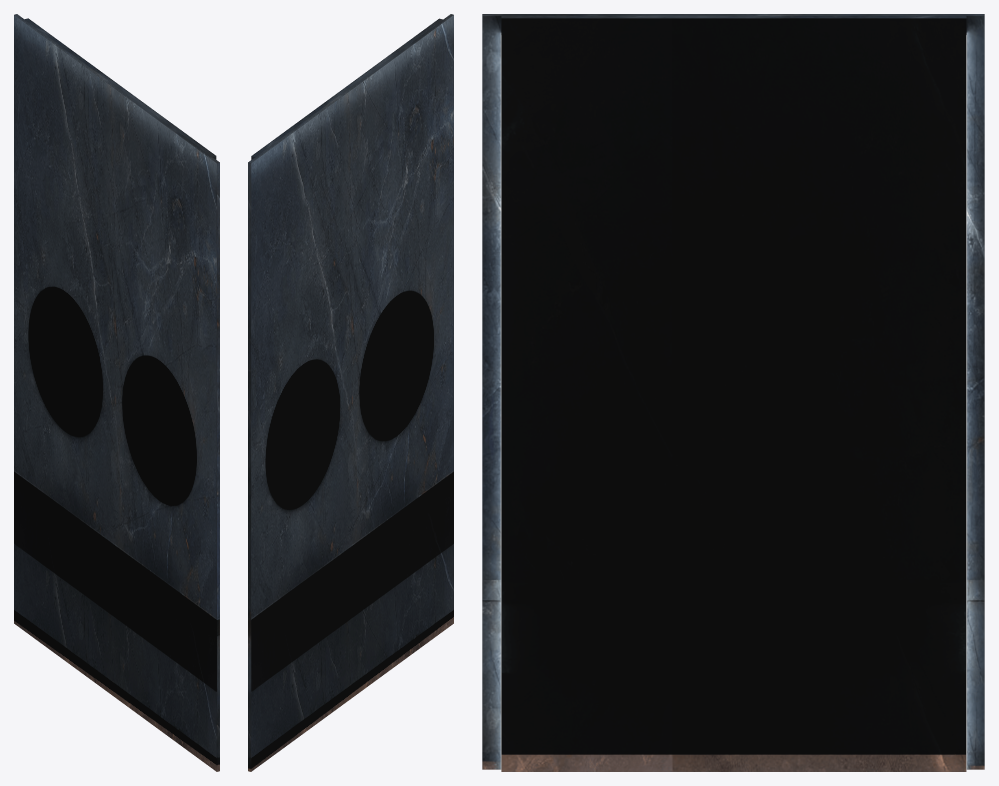
Rendered from MirrorWall_Marine_Blue.glb.
The picture shows the model from 3 angles, left to right: view 1: azimuth 30°, elevation 25°; view 2: azimuth 150°, elevation 25°; view 3: azimuth 270°, elevation 25°; orthographic projection. The views are drawn at different scales.
Visible parts, largest first — view 1: MirrorWall_Marine_Blue; view 2: MirrorWall_Marine_Blue; view 3: MirrorWall_Marine_Blue.
Boxes of the visible parts, x1,y1,x2,y2 form: MirrorWall_Marine_Blue: [14, 14, 219, 771]; MirrorWall_Marine_Blue: [248, 14, 453, 771]; MirrorWall_Marine_Blue: [482, 14, 984, 771].
Bounding box in the file's own units: 0.1216 × 9.91 × 5.98.
Materials: 1 (1 with a texture image).
